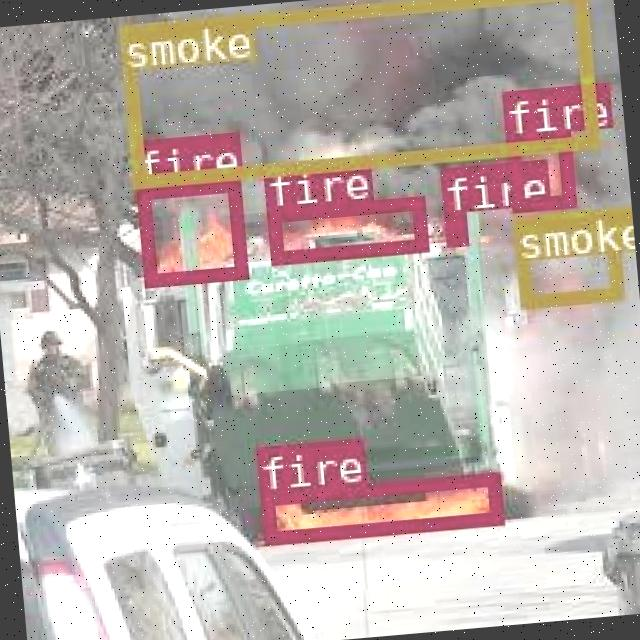fire: (258, 469, 499, 542), (132, 176, 245, 286), (263, 194, 424, 262), (502, 128, 574, 208), (441, 210, 466, 242)
smoke: (115, 0, 595, 186), (510, 206, 620, 305)
